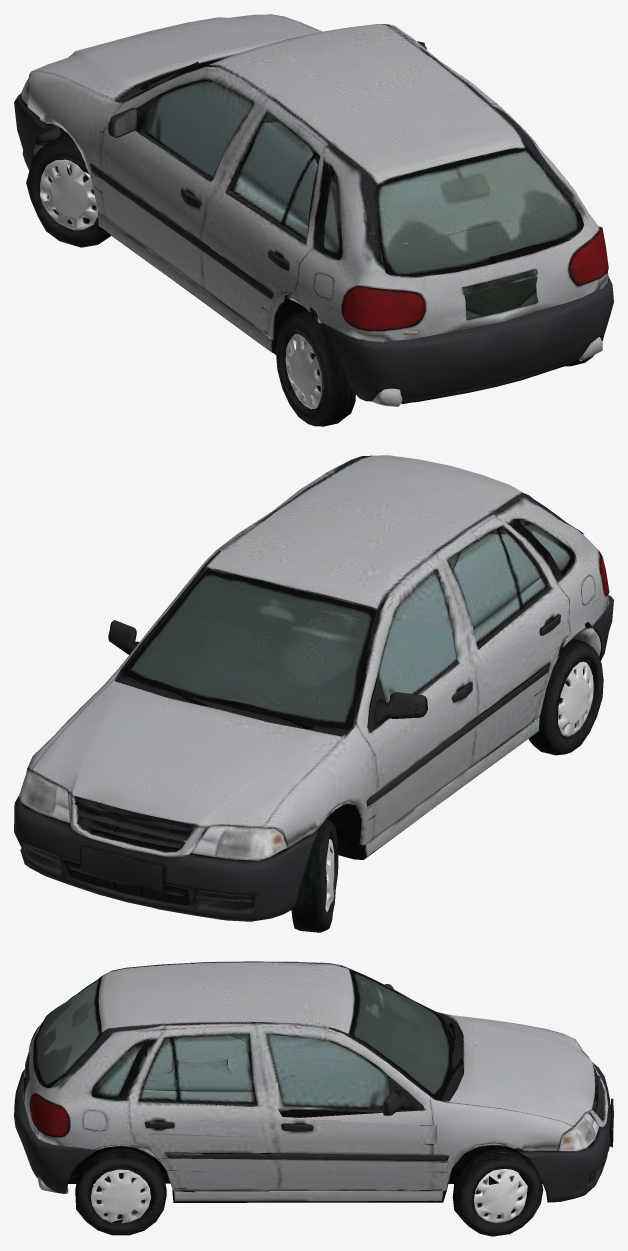
File: carro-compacto.glb
3 views of the same model, one above another, from view 1: azimuth 30°, elevation 25°; view 2: azimuth 150°, elevation 25°; view 3: azimuth 270°, elevation 25° (orthographic). The views are drawn at different scales.
Parts seen in each view (by area): view 1: Corpo, Roda_RL, Roda_FL; view 2: Corpo, Roda_RL, Roda_FL; view 3: Corpo, Roda_RR, Roda_FR.
Part boxes in pixels (x1,y1,x2,y2): Corpo: (14, 14, 613, 426); Roda_RL: (276, 310, 355, 424); Roda_FL: (26, 124, 98, 240); Corpo: (14, 455, 613, 921); Roda_RL: (529, 638, 603, 755); Roda_FL: (291, 818, 338, 932); Corpo: (14, 961, 613, 1236); Roda_RR: (75, 1146, 166, 1235); Roda_FR: (457, 1145, 543, 1236).
Size of the model in its own units: 1.84 by 1.42 by 3.9.
Materials: 1 (1 with a texture image).
